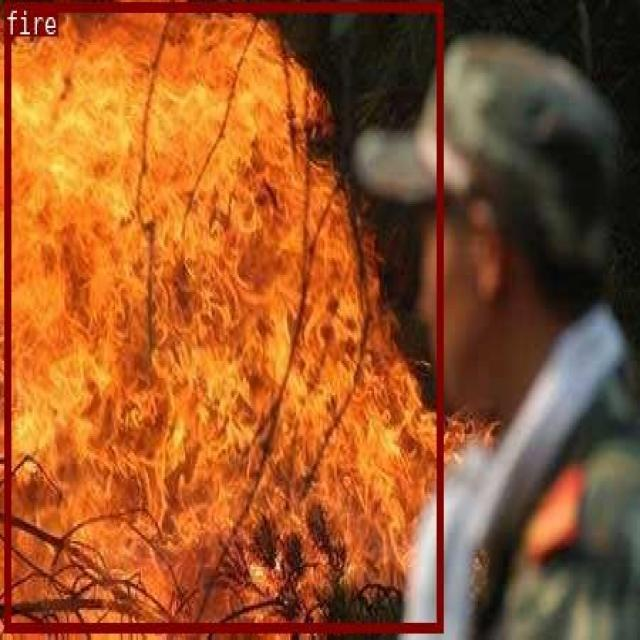fire: (4, 1, 441, 631)
